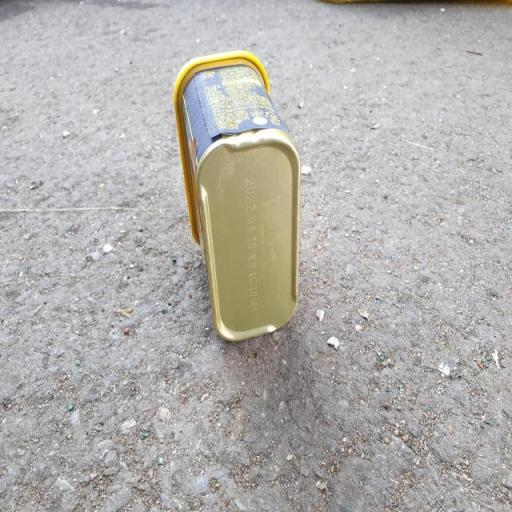metal: (160, 23, 322, 374)
